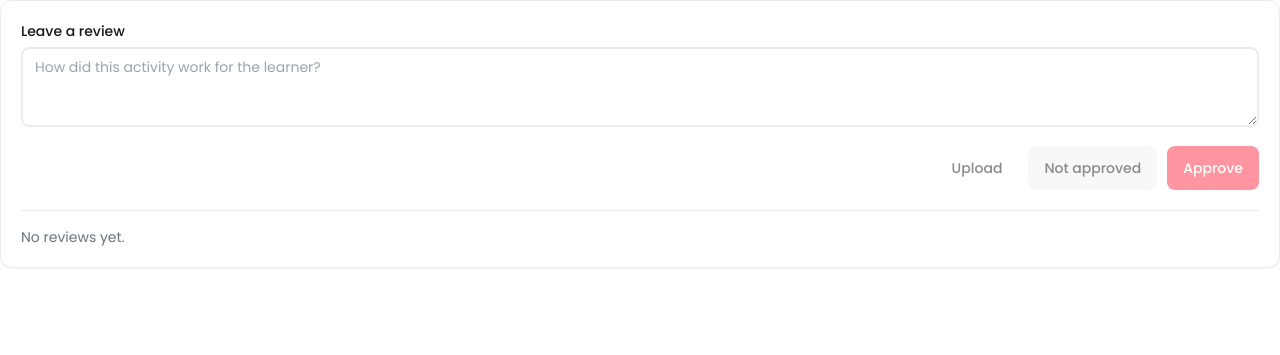
Scenario: stores the Not approved decision separately from UC3 status
Type "Useful activity." into the text box labelled "Leave a review" at x=640, y=87, box [21,47,1259,127]
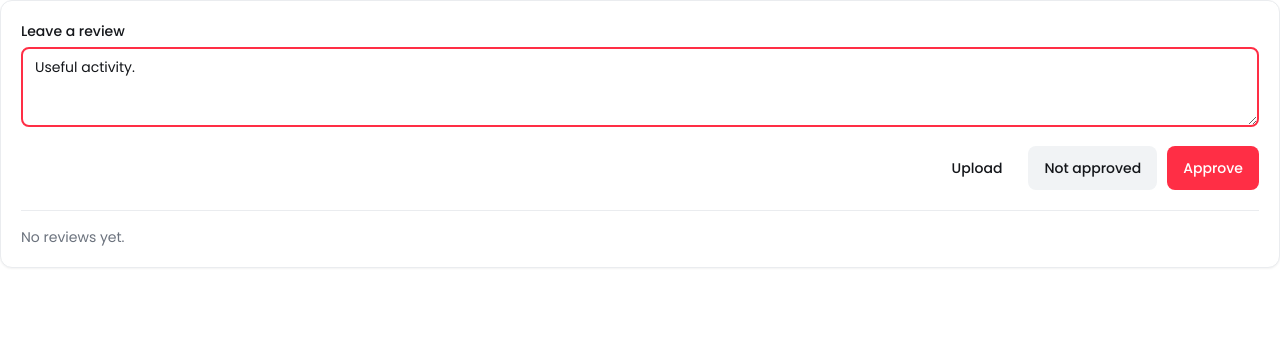
Click the button "Not approved" at x=1093, y=168, box [1028,146,1157,190]
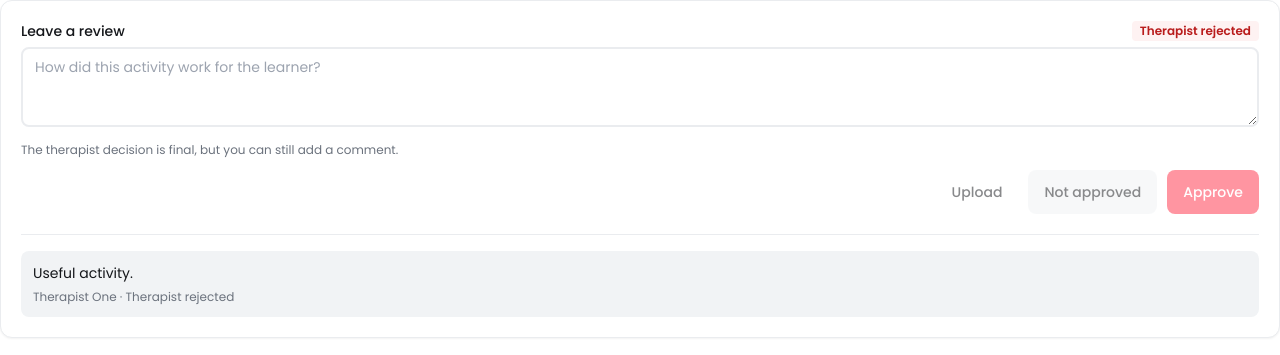
Check: the text "Therapist rejected" is shown, box [1132,21,1259,41]
